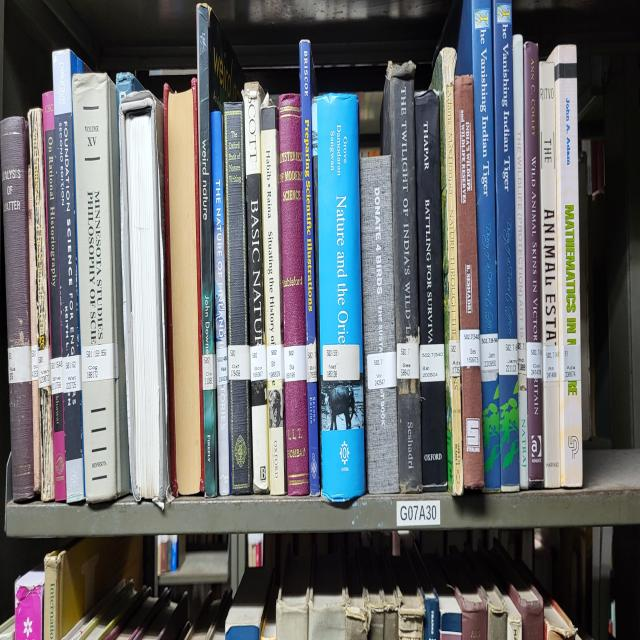Book: (440, 0, 500, 490), (72, 73, 130, 503), (198, 3, 244, 498), (316, 95, 365, 501), (380, 62, 422, 492), (52, 49, 88, 503), (430, 46, 464, 495), (548, 46, 582, 487), (492, 0, 520, 490), (415, 89, 448, 490), (360, 157, 399, 495), (0, 116, 34, 501), (454, 76, 484, 490), (279, 95, 309, 495), (242, 81, 269, 492), (224, 103, 252, 495), (28, 108, 55, 501), (261, 95, 286, 495), (42, 92, 66, 501), (300, 41, 320, 495), (539, 62, 560, 487), (524, 41, 544, 487), (512, 35, 529, 490), (211, 111, 230, 495), (29, 168, 41, 492)
Label: (81, 344, 119, 381), (322, 344, 360, 381), (366, 352, 396, 390), (420, 344, 445, 381), (480, 333, 499, 381), (8, 346, 31, 384), (396, 344, 420, 379), (228, 344, 250, 381), (284, 344, 306, 381), (560, 344, 581, 381), (460, 330, 480, 368), (498, 338, 518, 376), (62, 354, 81, 392), (526, 341, 542, 379), (542, 346, 559, 381), (250, 344, 266, 381), (266, 344, 282, 381), (38, 346, 51, 390), (50, 357, 64, 395), (202, 354, 216, 390), (216, 346, 228, 387), (306, 341, 318, 381), (449, 341, 460, 376), (31, 344, 39, 381)
